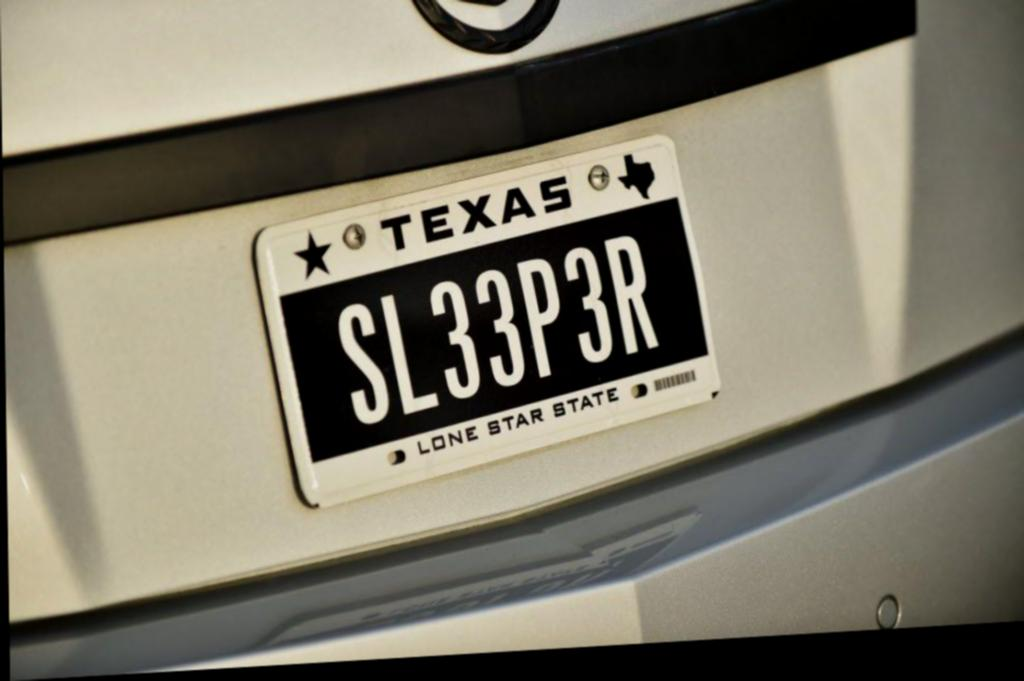License_Plate: (246, 133, 722, 515)
